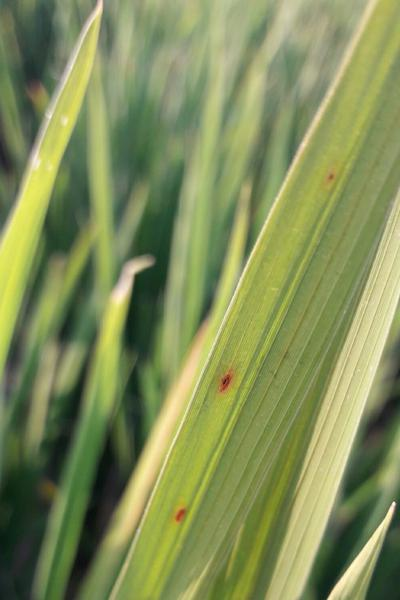Bercak Coklat: (317, 161, 354, 194), (210, 368, 246, 393), (167, 501, 198, 524)
